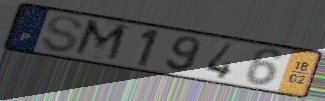1: (136, 28, 162, 69)
4: (203, 41, 237, 81)
6: (241, 46, 286, 89)
9: (162, 34, 203, 74)
M: (70, 17, 132, 65)
S: (39, 14, 85, 54)
